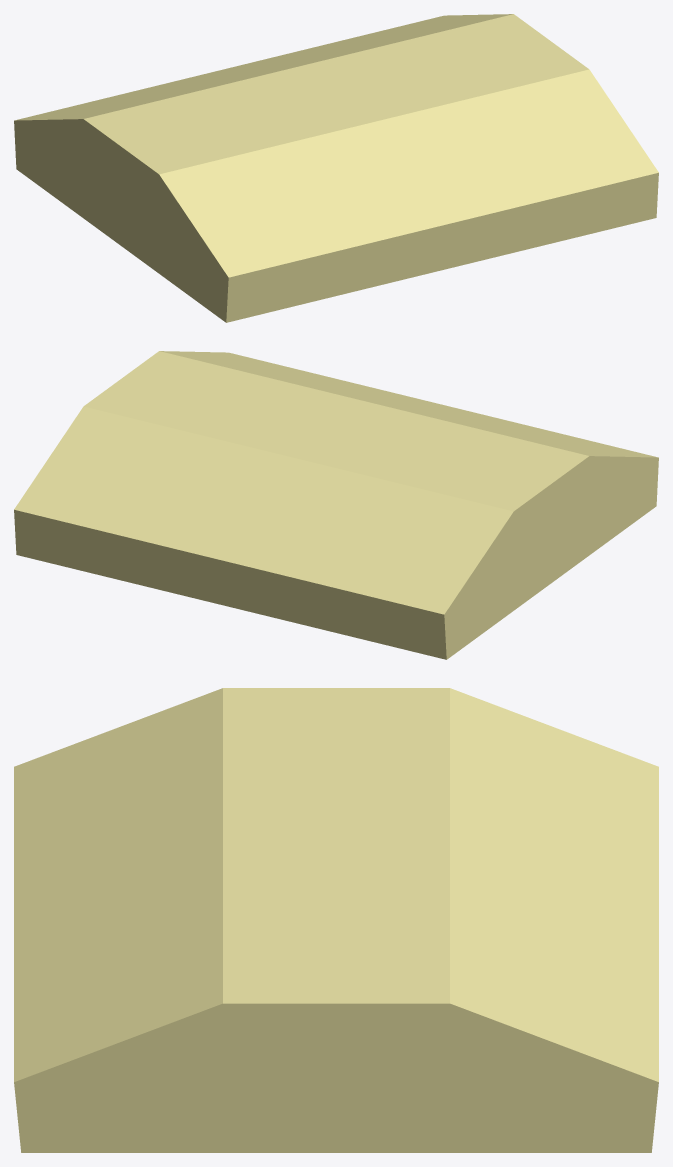
File: gate-right.glb
The picture shows the model from 3 angles, top to bottom: view 1: azimuth 30°, elevation 25°; view 2: azimuth 150°, elevation 25°; view 3: azimuth 270°, elevation 25°; orthographic projection. The views are drawn at different scales.
Parts seen in each view (by area): view 1: S2|SM_Foundation_HescoGate#0; view 2: S2|SM_Foundation_HescoGate#0; view 3: S2|SM_Foundation_HescoGate#0.
Part boxes in pixels (<box>): S2|SM_Foundation_HescoGate#0: <box>14,14,658,322</box>; S2|SM_Foundation_HescoGate#0: <box>14,351,658,659</box>; S2|SM_Foundation_HescoGate#0: <box>14,688,658,1152</box>.
Bounding box in the file's own units: 5.96 × 1.31 × 5.15.
